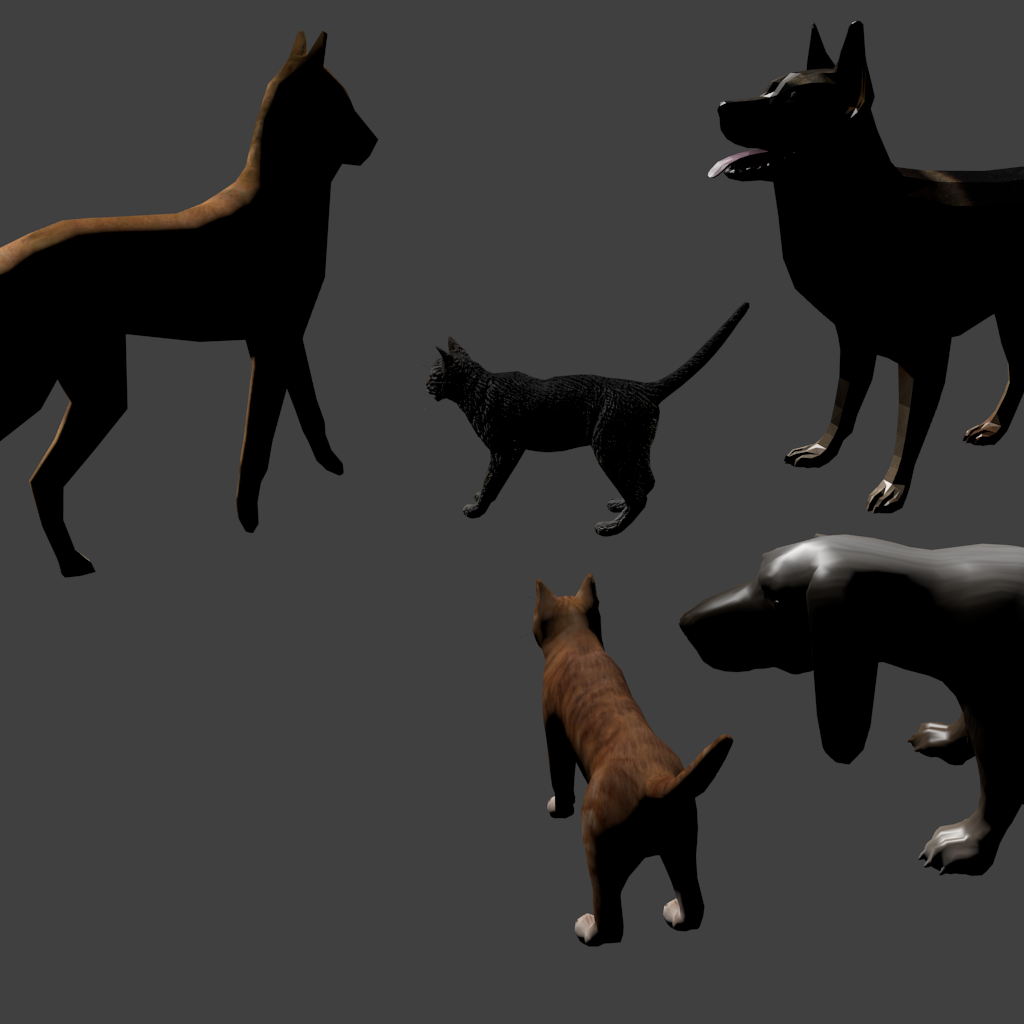Dog: (0, 30, 378, 548)
